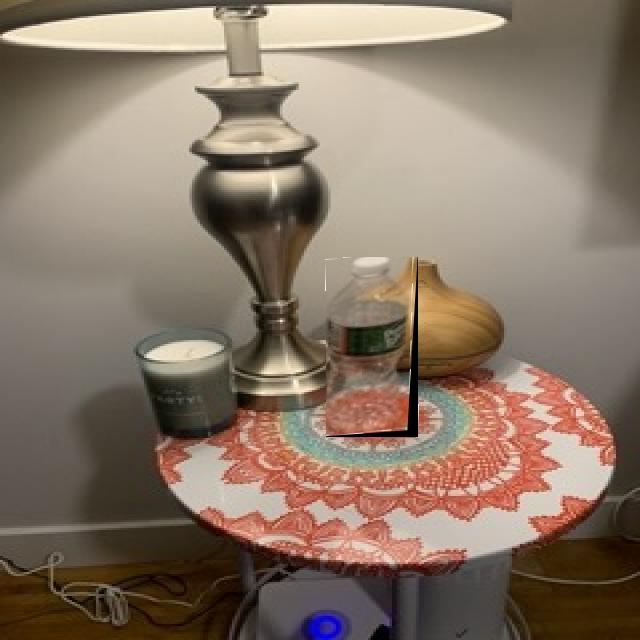water_bottle: (326, 257, 418, 437)
